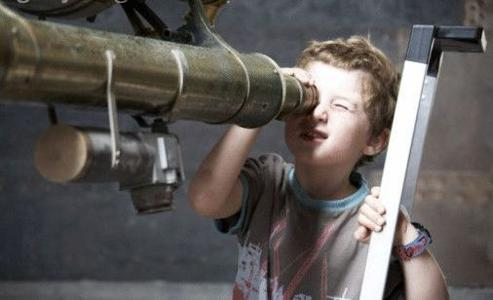person: (191, 35, 450, 300)
